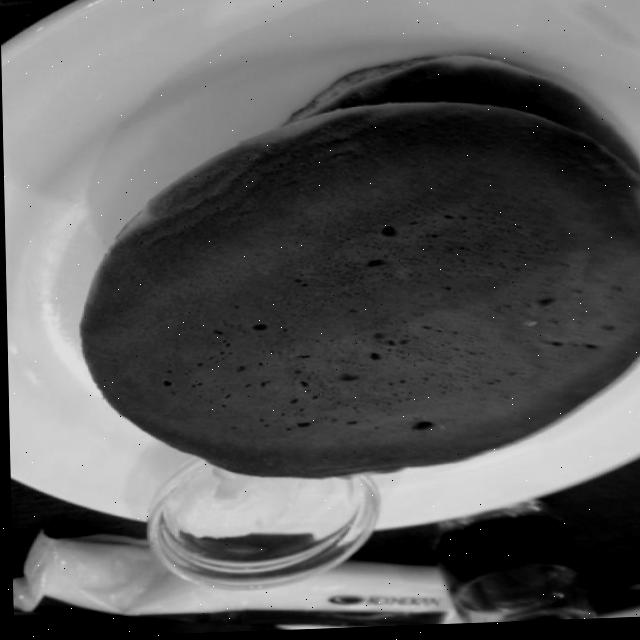蛋糕甜品: (37, 37, 640, 547)
